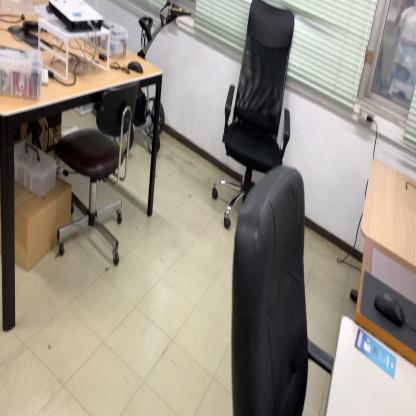chair: (230, 163, 335, 416), (211, 1, 295, 235), (56, 77, 141, 265)
